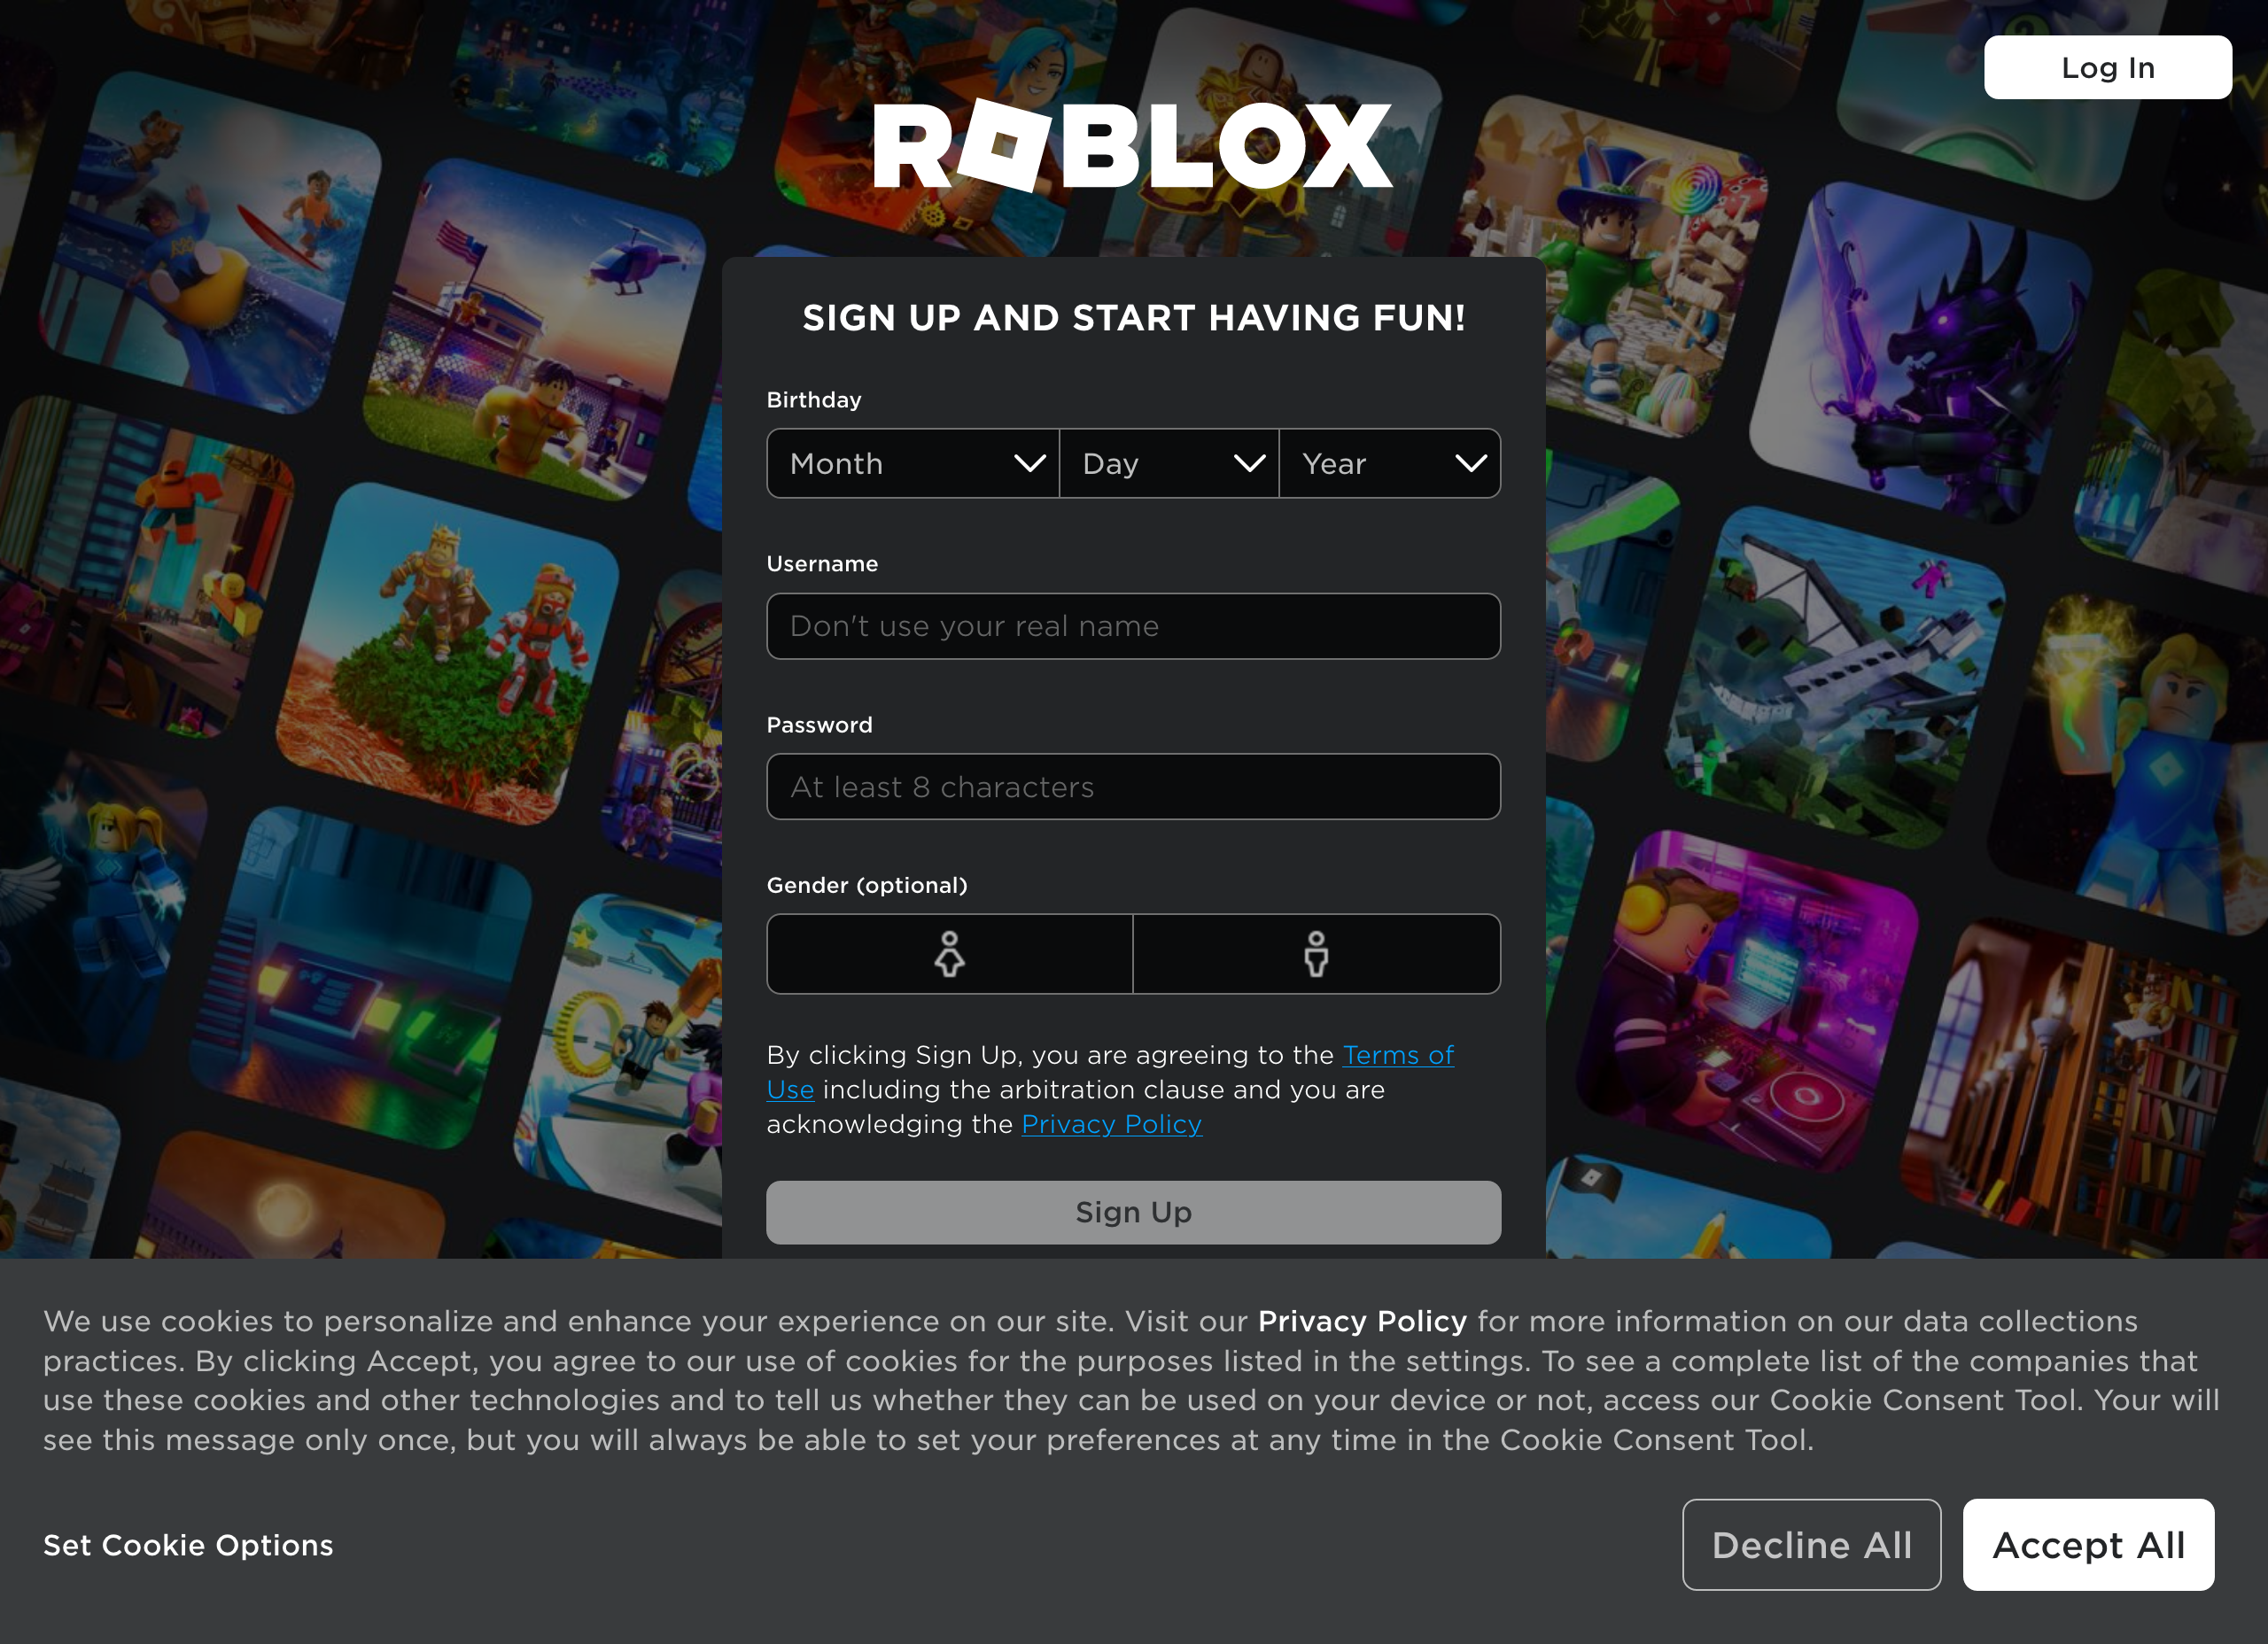Login: (2021, 39, 2187, 107)
